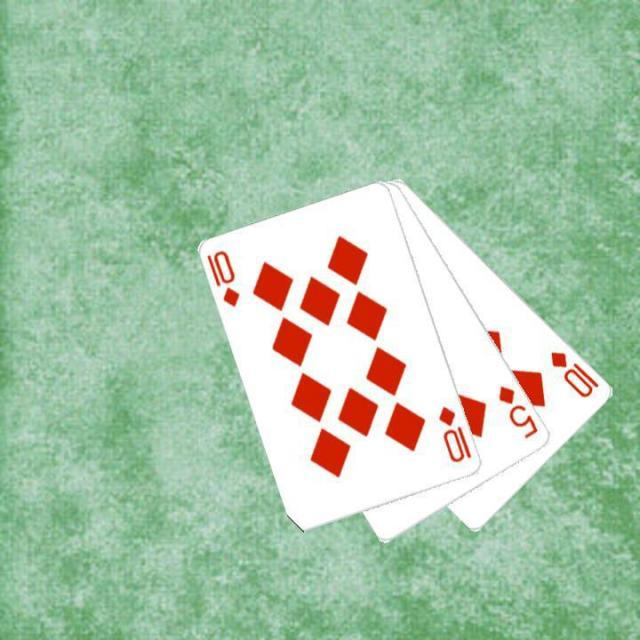10D: (546, 348, 602, 400), (434, 403, 474, 465), (204, 247, 242, 310)
5D: (495, 381, 541, 441)
